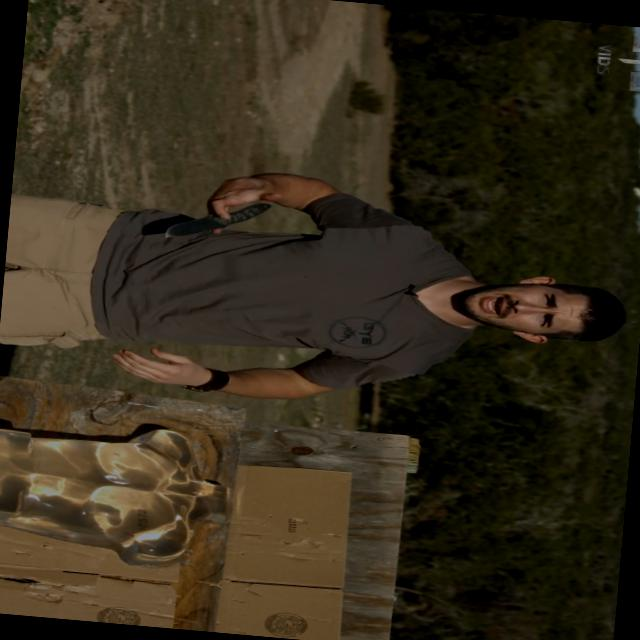knife: (154, 177, 273, 250)
